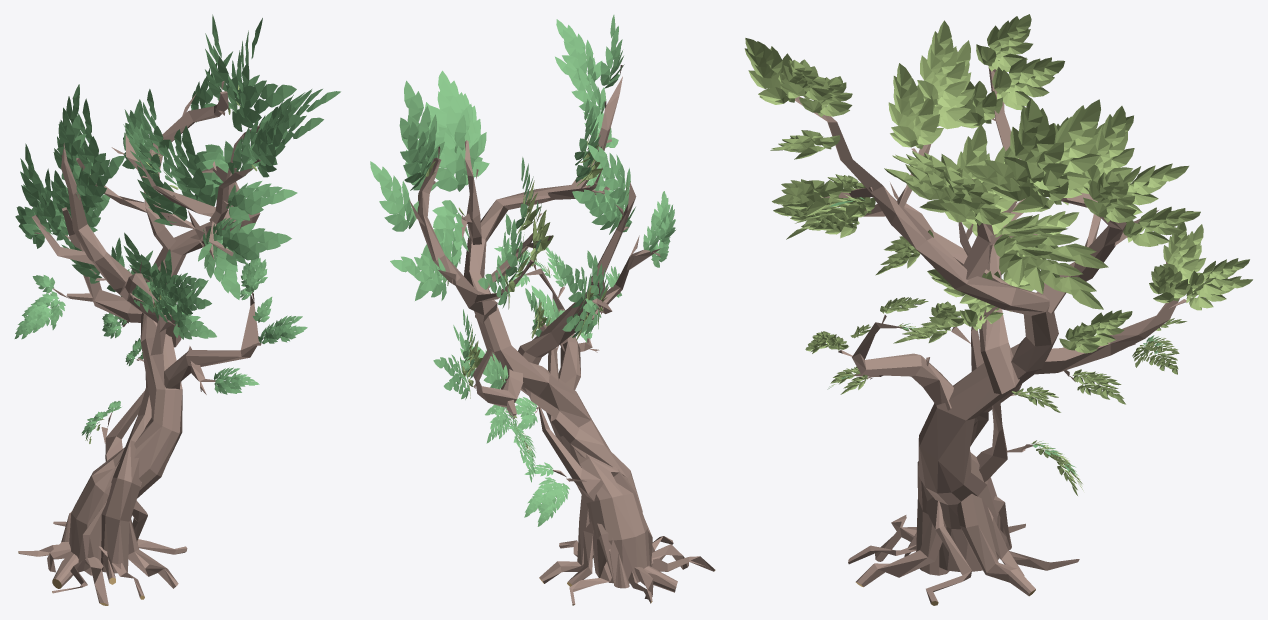
File: tree1.fbx
3 views of the same model, side by side, from view 1: azimuth 30°, elevation 25°; view 2: azimuth 150°, elevation 25°; view 3: azimuth 270°, elevation 25° (orthographic). The views are drawn at different scales.
Visible parts, largest first — view 1: model:mesh1406566609; view 2: model:mesh1406566609; view 3: model:mesh1406566609.
Boxes of the visible parts, x1=… form: model:mesh1406566609: x1=14, y1=14, x2=340, y2=605; model:mesh1406566609: x1=370, y1=15, x2=715, y2=605; model:mesh1406566609: x1=744, y1=14, x2=1252, y2=605.
Bounding box in the file's own units: 8.02 × 13.35 × 10.28.
